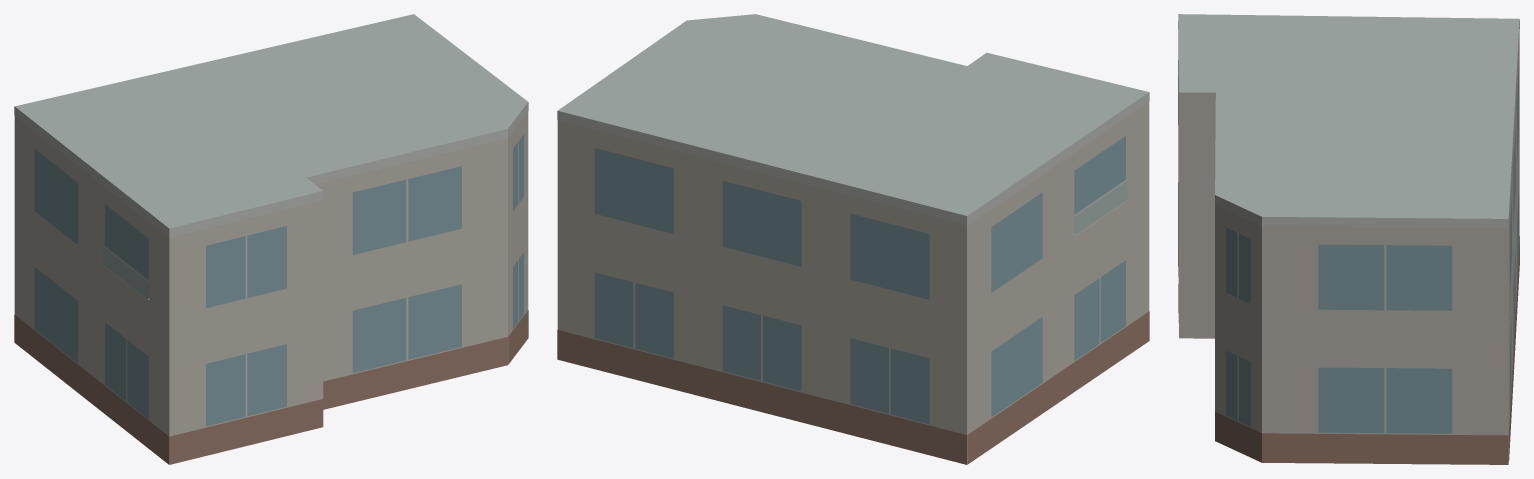
Rendered from survey-upis-32700232.glb.
The picture shows the model from 3 angles, left to right: view 1: azimuth 30°, elevation 25°; view 2: azimuth 150°, elevation 25°; view 3: azimuth 270°, elevation 25°; orthographic projection. The views are drawn at different scales.
Parts seen in each view (by area): view 1: survey-upis-32700232.tmp; view 2: survey-upis-32700232.tmp; view 3: survey-upis-32700232.tmp.
Part boxes in pixels (x1,y1,x2,y2): survey-upis-32700232.tmp: (14, 14, 528, 464); survey-upis-32700232.tmp: (557, 14, 1149, 464); survey-upis-32700232.tmp: (1178, 14, 1519, 464).
Size of the model in its own units: 11.2 by 6.26 by 7.88.
